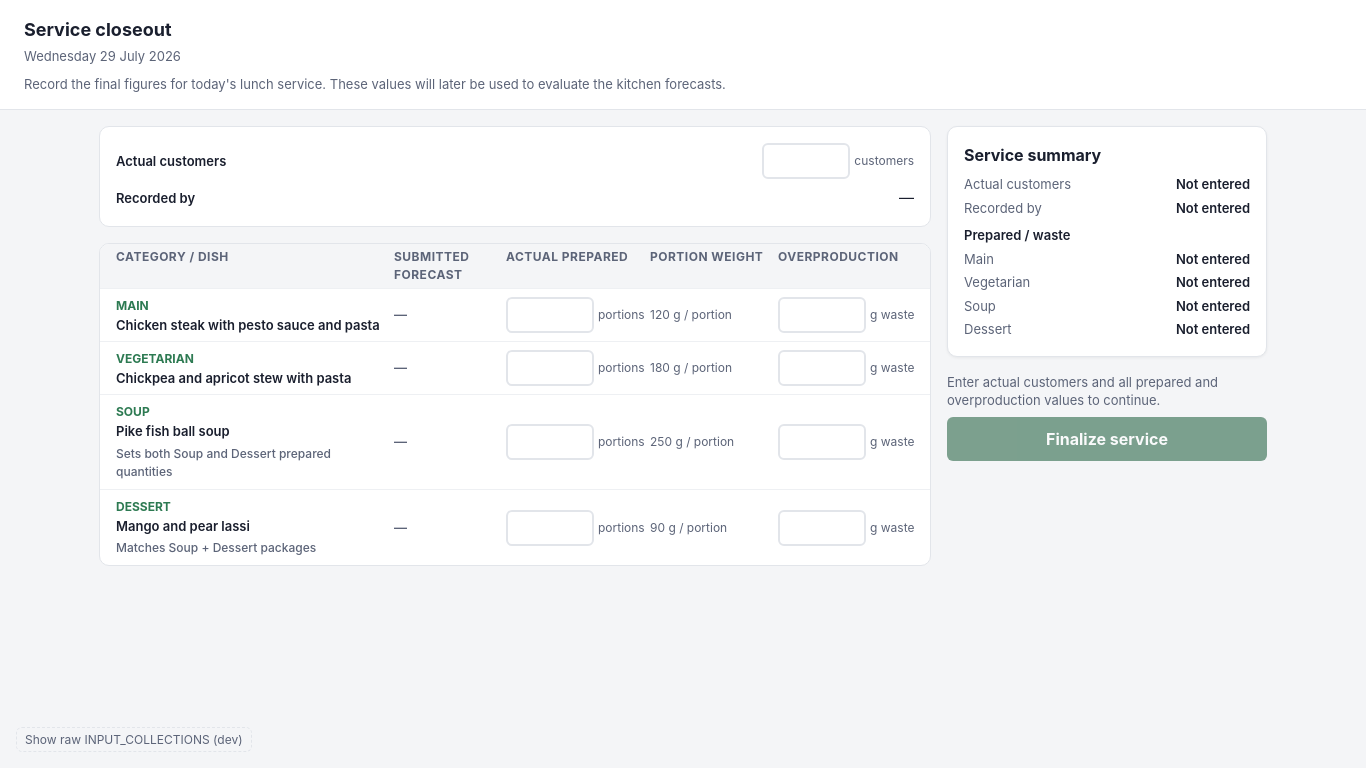
it: service closeout UX › rejects waste greater than prepared weight
The image size is (1366, 768).
Type "10" into the 2nd field at {"x": 550, "y": 315}, box 506,297 -> 594,333
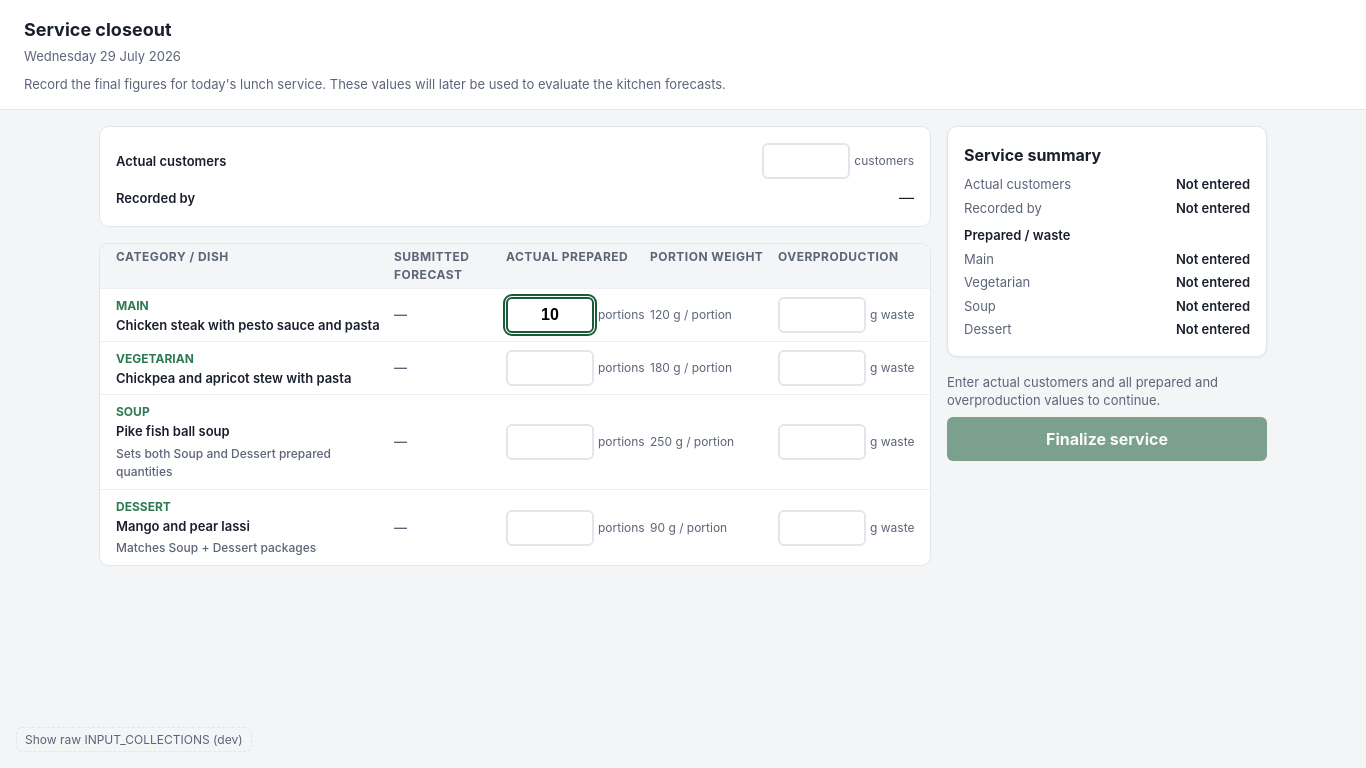
Type "1500" into the 3rd field at {"x": 822, "y": 315}, box 778,297 -> 866,333
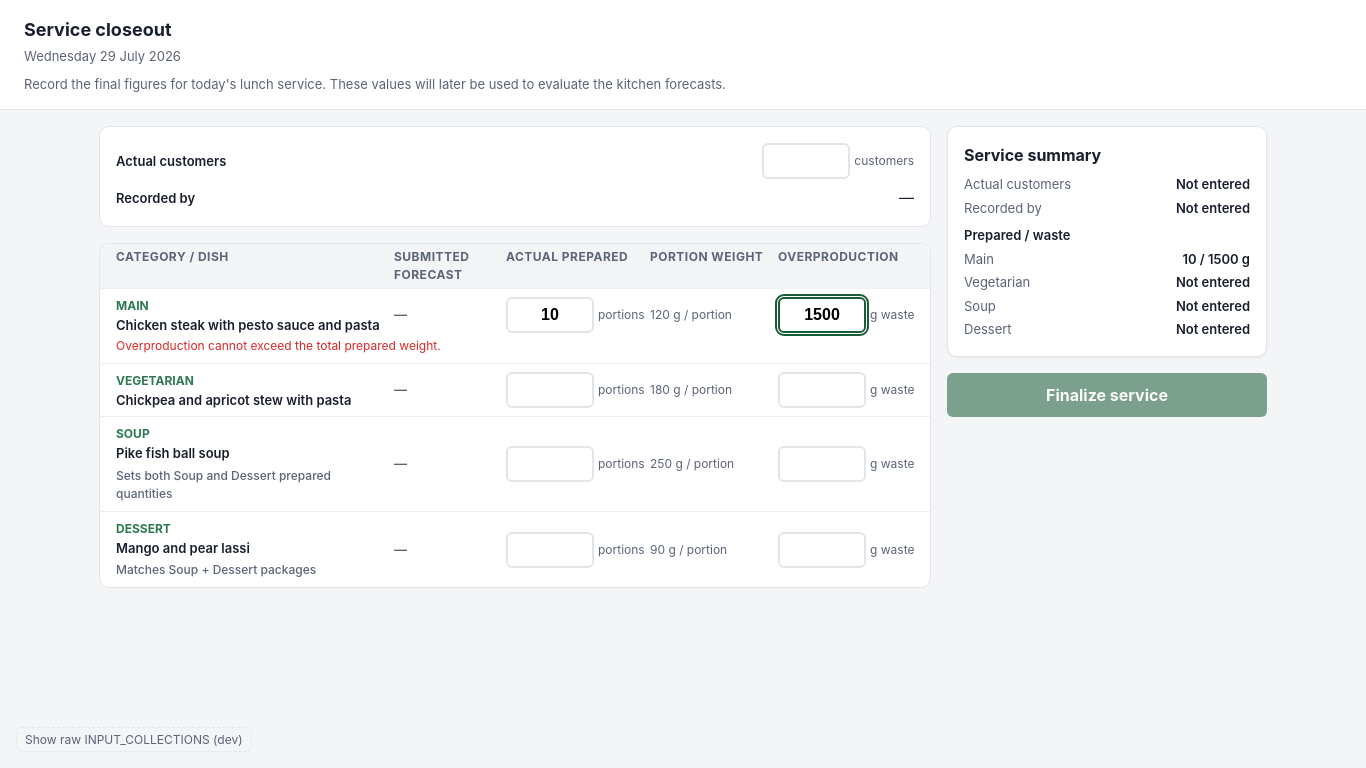
Expected: the button "Finalize service" is disabled, 947,373 -> 1267,417
Expected: the text "Overproduction cannot exceed the total prepared weight." is shown, 116,338 -> 441,353
